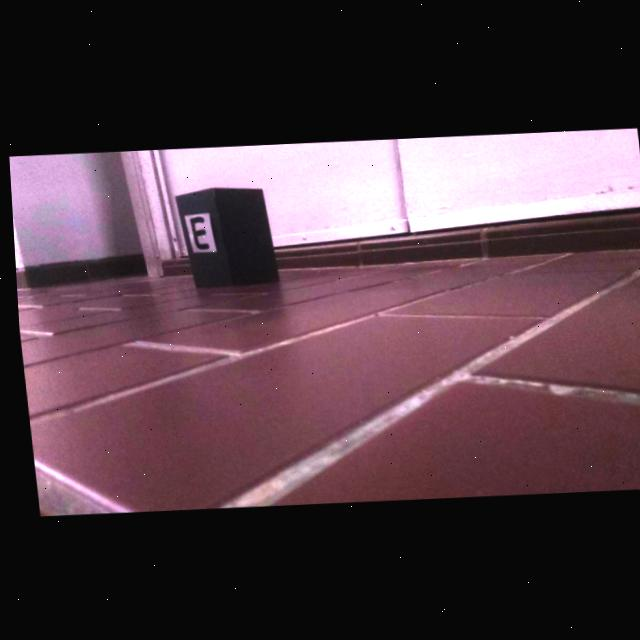E: (187, 217, 207, 249)
